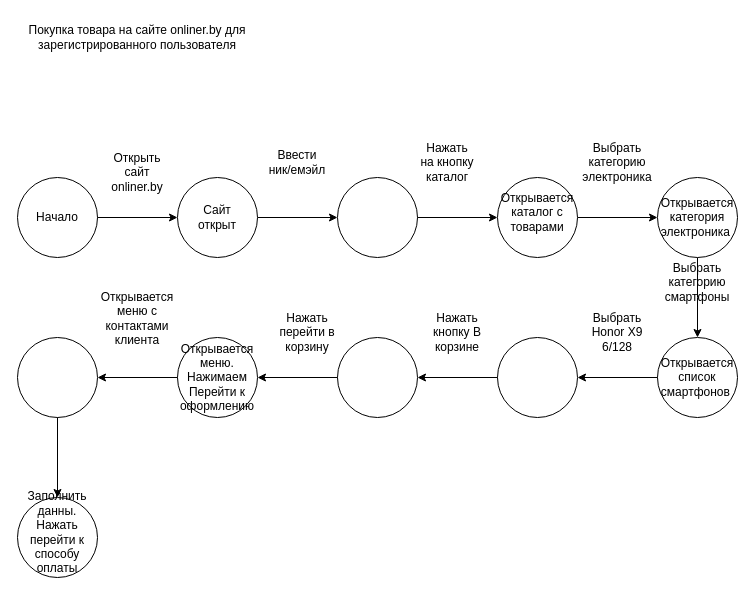
Some shapes in this 755 by 595 pixel diagram are drawn without their labels. The centre of each missing label's shape, as x and y in pixels:
Заполнить данные: the point at 57,377
Открывается меню корзины: the point at 377,377
Открывается телефон с описанием: the point at 537,377
Пользователь залогинился: the point at 377,217
